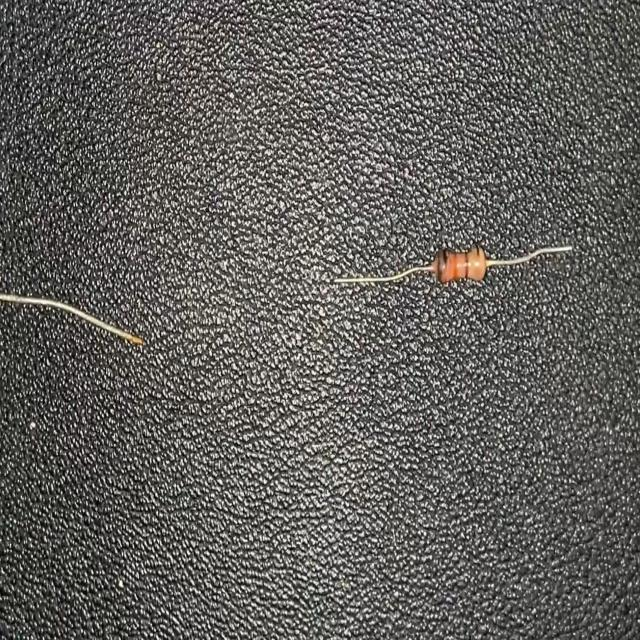burnt: (429, 245, 455, 284)
faded: (468, 242, 482, 282)
resistor: (330, 233, 574, 289)
